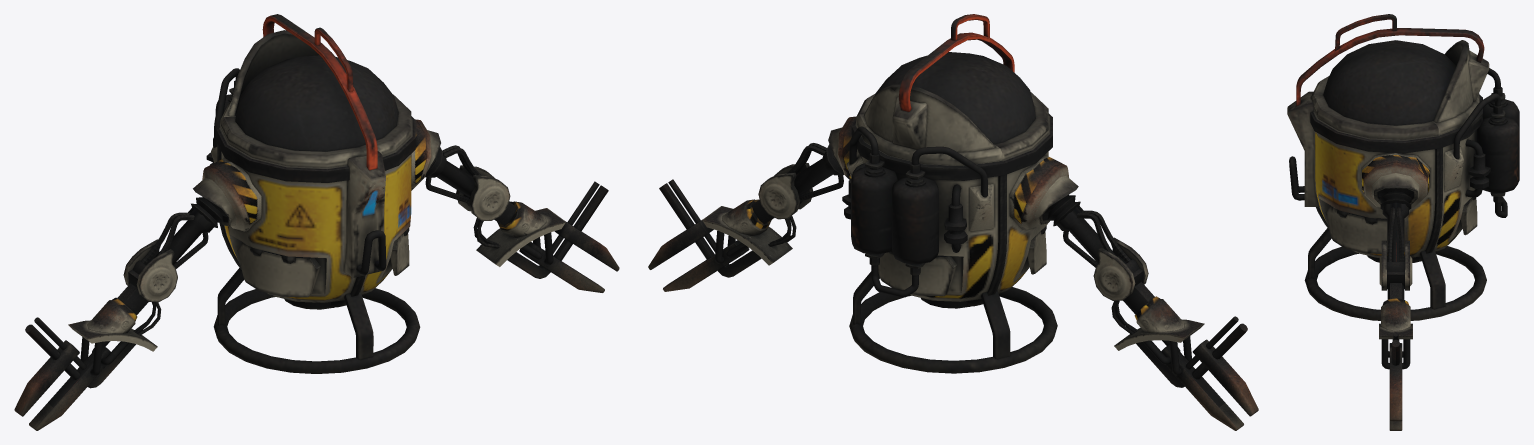
File: drone.obj
3 renders of one model, left to right at view 1: azimuth 30°, elevation 25°; view 2: azimuth 150°, elevation 25°; view 3: azimuth 270°, elevation 25°, orthographic. The views are drawn at different scales.
Parts seen in each view (by area): view 1: drone; view 2: drone; view 3: drone.
Boxes of the visible parts, box(x1,y1,x2,y2) form: drone: box(14, 14, 619, 430); drone: box(648, 14, 1258, 430); drone: box(1287, 14, 1519, 430).
Bounding box in the file's own units: 3.58 × 1.91 × 1.36.
1 material, 1 textured.
